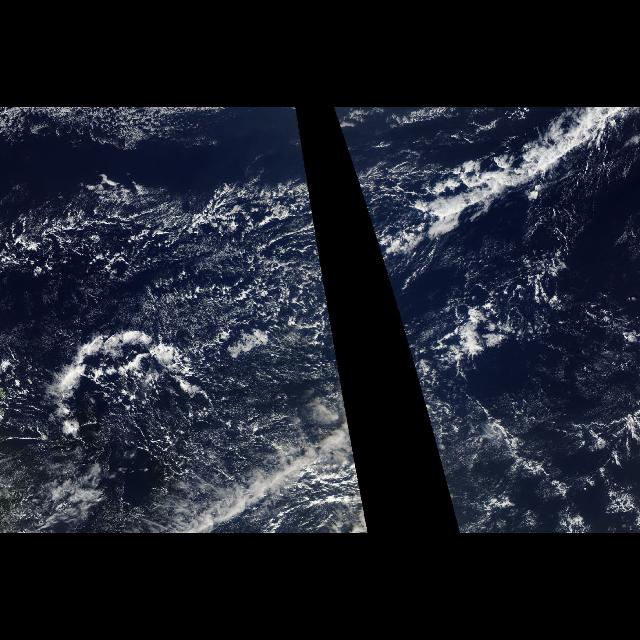Fish: (369, 108, 639, 266)
Gravel: (2, 172, 354, 492)
